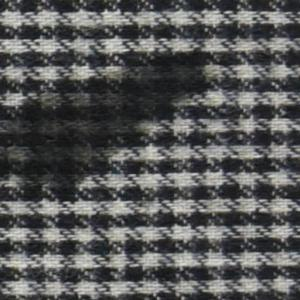Stain: (1, 48, 219, 204)
